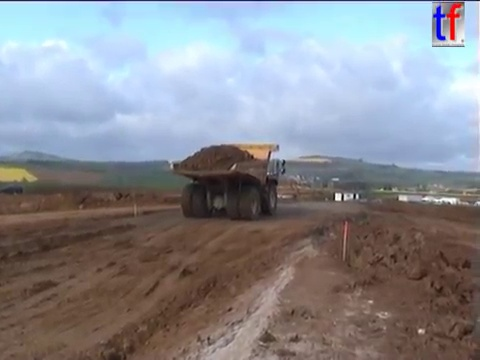truck: (167, 141, 287, 221)
